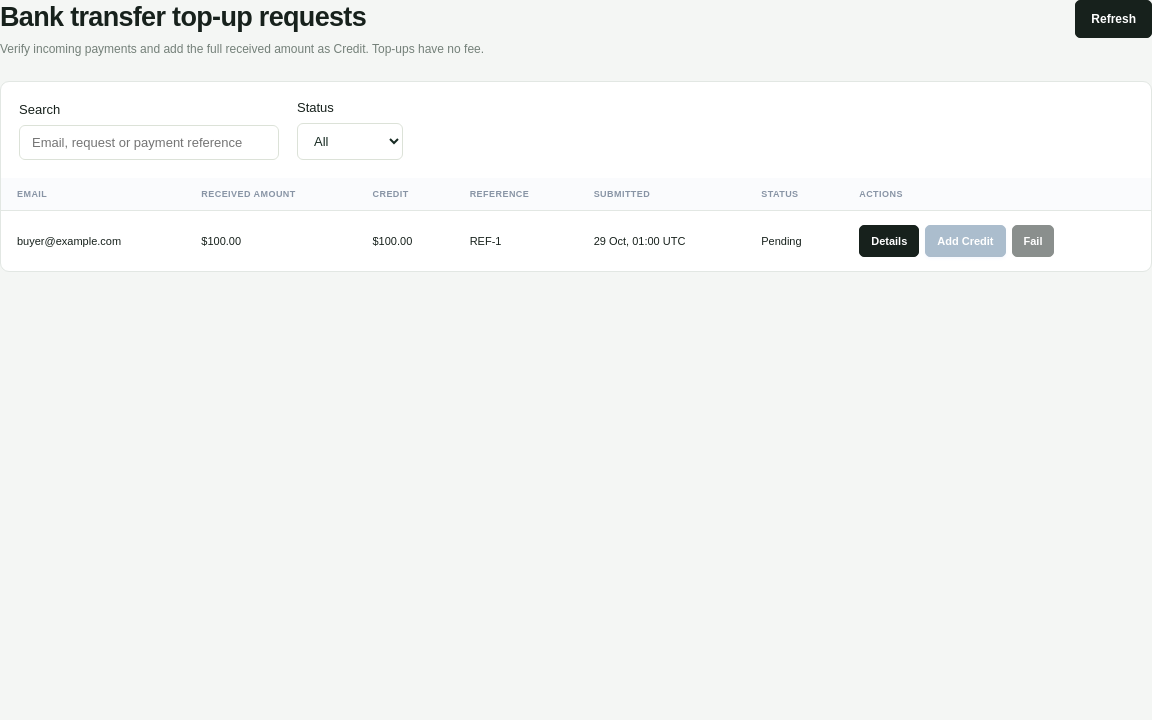
Scenario: Console payment review › keeps legacy amounts visible and disables unsupported versioned decisions
This screenshot has width=1152, height=720.
Check: the button "Add Credit" is disabled, box [925,225,1006,257]
Check: the button "Fail" is disabled, box [1012,225,1054,257]
Click the button "Details": (889, 241) [859,225,919,257]
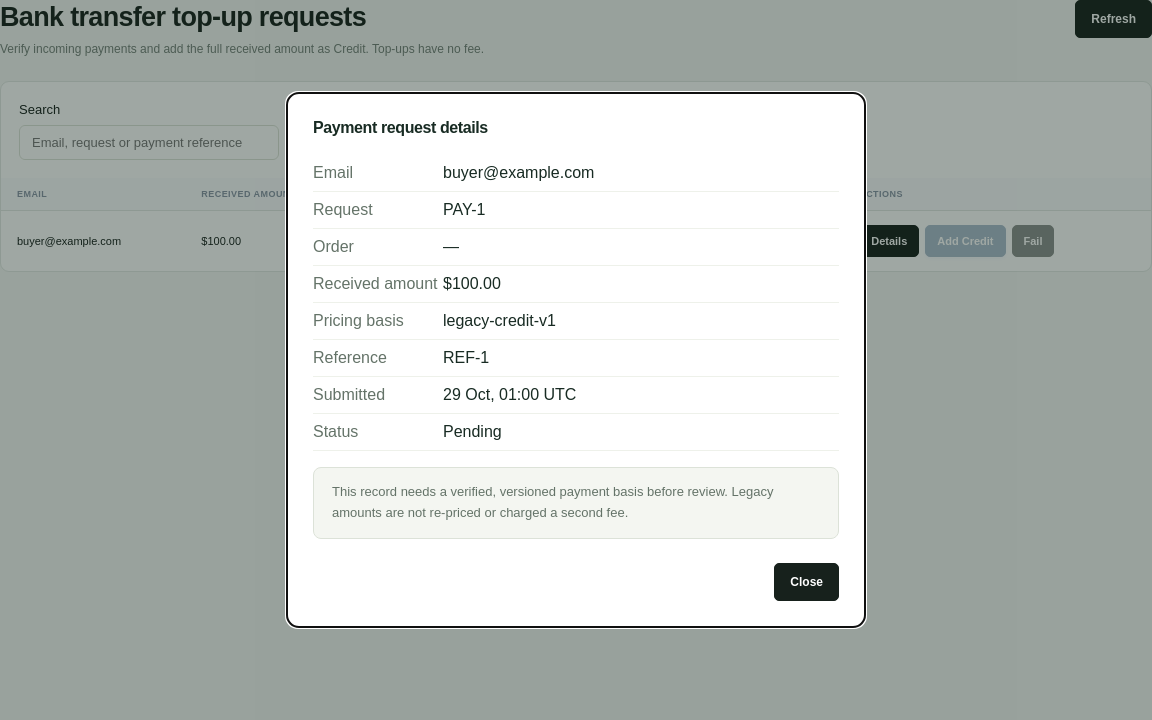
Check: the dialog shows "not re-priced", box [332,484,774,520]
